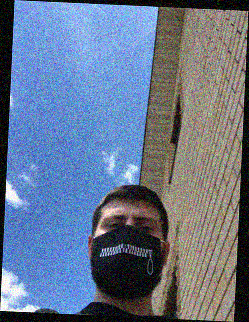with_mask: (91, 209, 164, 301)
